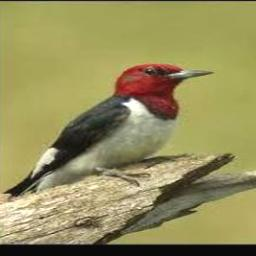Woodpecker: (4, 63, 215, 198)
